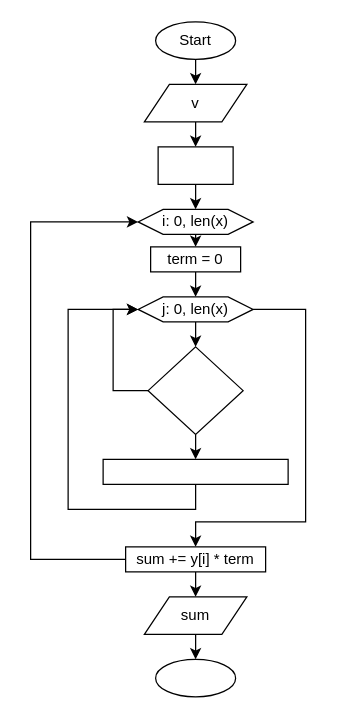
Some shapes in this 338 by 719 pixel diagram are drawn without their labels. The centre of each missing label's shape, as x and y in pixels:
"End" belongs at pixel 195 677.
"i == j" belongs at pixel 195 390.
"sum = 0" belongs at pixel 195 165.
"term *= (v - x[j]) / (x[i] - x[j])" belongs at pixel 195 471.
